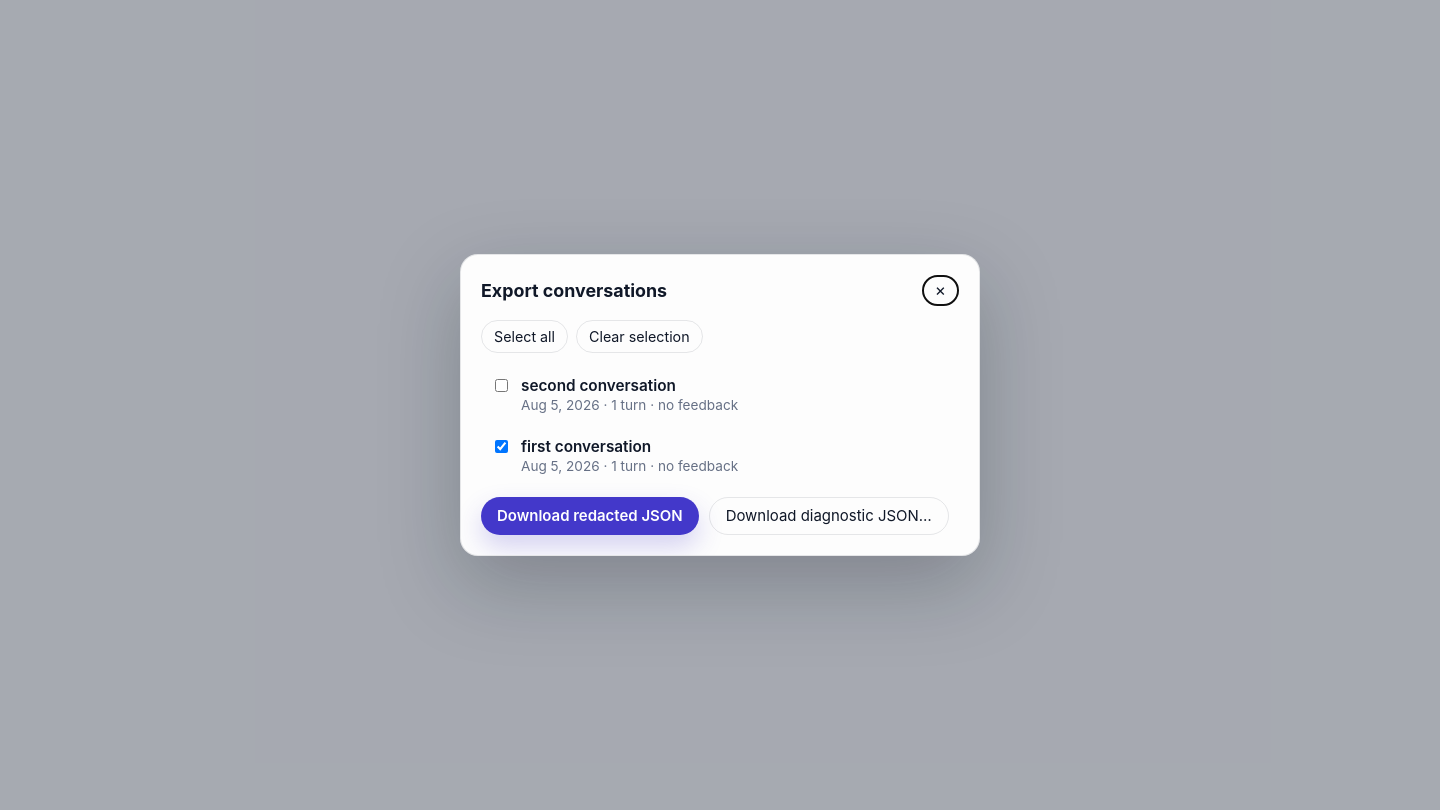
Scenario: ExportConversationsDialog › disables downloads when the selection is empty and re-enables via select all
Click the button "Clear selection".
click(639, 336)  # box x1=576 y1=320 x2=703 y2=353
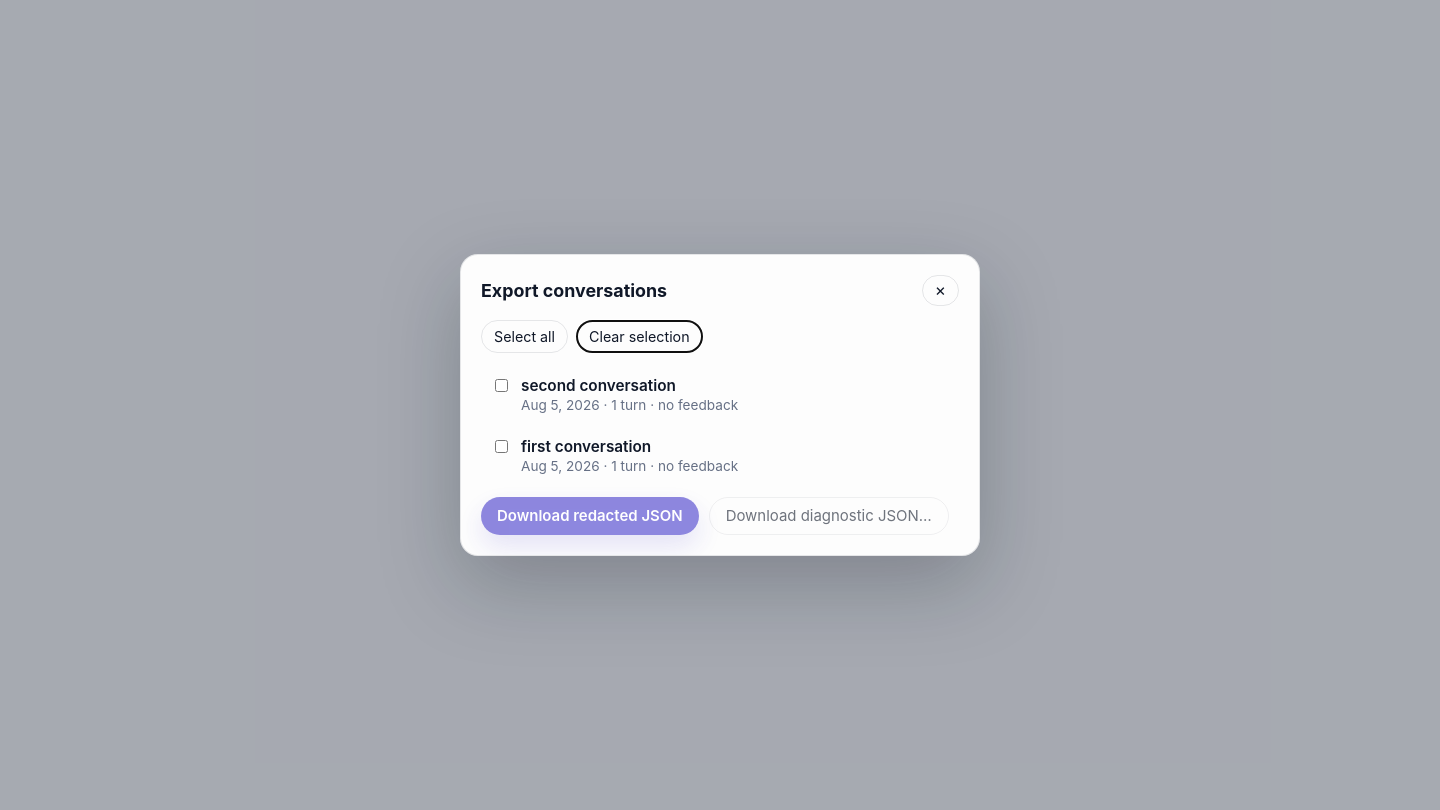
Check: the button "Download redacted JSON" is disabled, box x1=481 y1=497 x2=699 y2=535
Check: the button "Download diagnostic JSON…" is disabled, box x1=709 y1=497 x2=949 y2=535
Click the button "Select all".
click(524, 336)  # box x1=481 y1=320 x2=568 y2=353
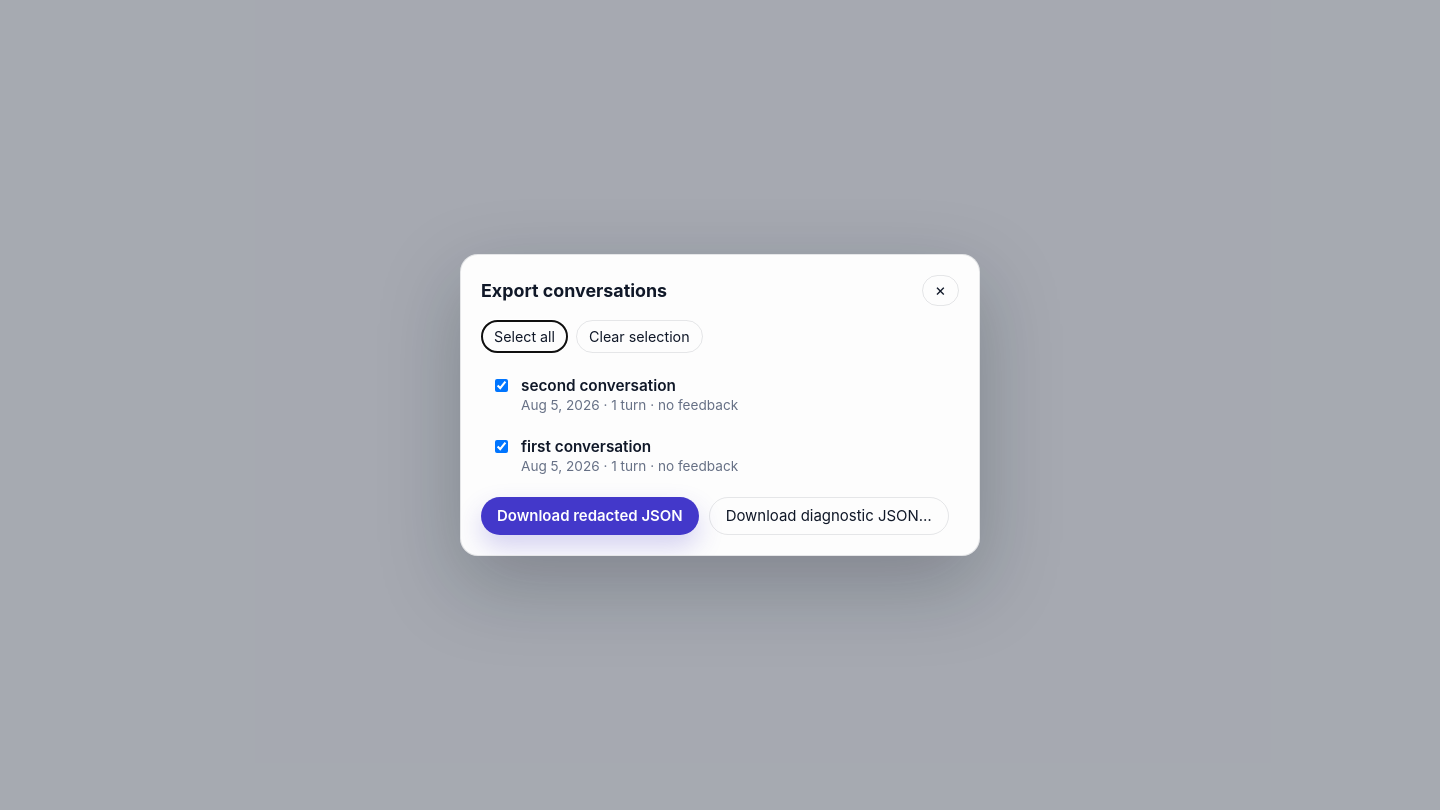
Check: the button "Download redacted JSON" is enabled, box x1=481 y1=497 x2=699 y2=535
